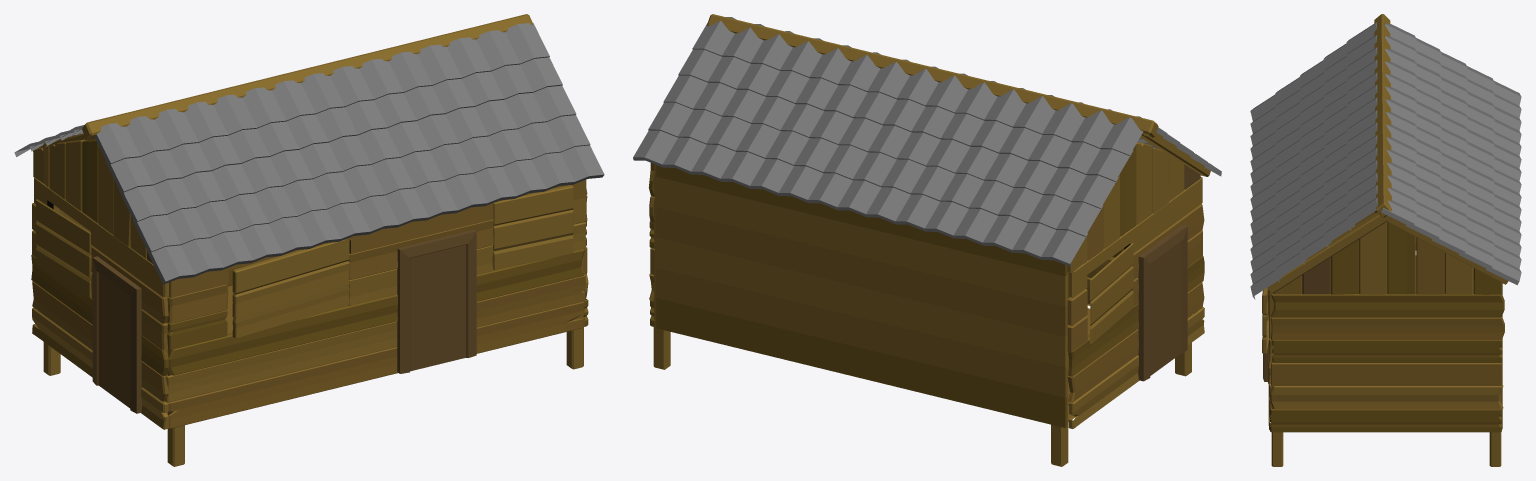
Rendered from casinha5.fbx.
The picture shows the model from 3 angles, left to right: view 1: azimuth 30°, elevation 25°; view 2: azimuth 150°, elevation 25°; view 3: azimuth 270°, elevation 25°; orthographic projection. The views are drawn at different scales.
Parts seen in each view (by area): view 1: estrutura.001, newTelha.036, newTelha.033, newTelha.034, newTelha.035, newTelha.037, porta.001, base, porta, janela, janela.001; view 2: estrutura.001, newTelha.032, newTelha.038, newTelha.039, newTelha.041, newTelha.040, base, porta, janela.001; view 3: estrutura.001, base, newTelha.036, newTelha.038, newTelha.032, newTelha.041, newTelha.039, newTelha.040, newTelha.033, newTelha.034, newTelha.035, newTelha.037 (+1 smaller).
Boxes of the visible parts, bbox=[...] form: estrutura.001: bbox=[31, 139, 588, 429]; newTelha.036: bbox=[94, 22, 549, 165]; newTelha.033: bbox=[147, 145, 604, 284]; newTelha.034: bbox=[133, 115, 590, 254]; newTelha.035: bbox=[118, 85, 576, 223]; newTelha.037: bbox=[105, 57, 562, 194]; porta.001: bbox=[397, 230, 476, 373]; base: bbox=[33, 14, 583, 466]; porta: bbox=[92, 256, 142, 413]; janela: bbox=[492, 185, 573, 269]; janela.001: bbox=[35, 199, 91, 297]; estrutura.001: bbox=[648, 142, 1204, 428]; newTelha.032: bbox=[633, 130, 1087, 266]; newTelha.038: bbox=[648, 102, 1103, 238]; newTelha.039: bbox=[663, 75, 1118, 210]; newTelha.041: bbox=[692, 20, 1143, 157]; newTelha.040: bbox=[678, 49, 1133, 183]; base: bbox=[653, 14, 1210, 466]; porta: bbox=[1138, 224, 1187, 381]; janela.001: bbox=[1090, 243, 1133, 344]; estrutura.001: bbox=[1268, 211, 1504, 432]; base: bbox=[1267, 14, 1508, 466]; newTelha.036: bbox=[1346, 22, 1378, 230]; newTelha.038: bbox=[1459, 66, 1494, 270]; newTelha.032: bbox=[1486, 81, 1521, 285]; newTelha.041: bbox=[1381, 23, 1416, 227]; newTelha.039: bbox=[1432, 52, 1467, 255]; newTelha.040: bbox=[1406, 38, 1441, 241]; newTelha.033: bbox=[1250, 94, 1281, 299]; newTelha.034: bbox=[1275, 77, 1306, 281]; newTelha.035: bbox=[1300, 60, 1331, 264]; newTelha.037: bbox=[1323, 43, 1355, 247].
Size of the model in its own units: 1017 by 663 by 609.
